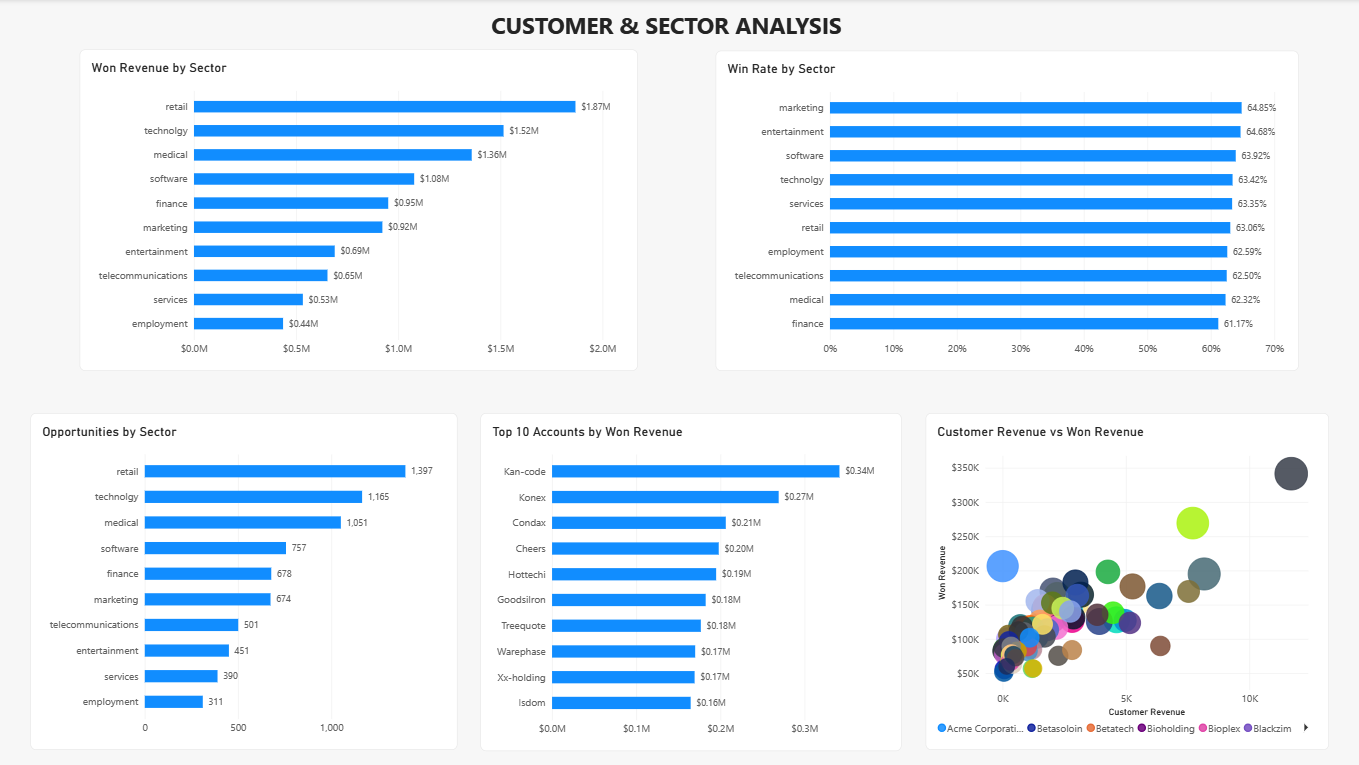

The dashboard page shown, as its layout file describes it:
{"tool":"powerbi","page":{"name":"Customer & Sector Analysis","canvas":[1920,1080],"ordinal":2},"visuals":[{"type":"clusteredBarChart","title":"Won Revenue by Sector","fields":{"Category":["DimAccount.sector"],"Y":["FactSalesPipeline.Won Revenue"]},"box":[114.6,70.8,783.8,451.8],"z":0},{"type":"clusteredBarChart","title":"Win Rate by Sector","fields":{"Category":["DimAccount.sector"],"Y":["FactSalesPipeline.Win Rate"]},"box":[1008,72.5,819.2,450.1],"z":1000},{"type":"clusteredBarChart","title":"Opportunities by Sector","fields":{"Category":["DimAccount.sector"],"Y":["FactSalesPipeline.Total Opportunities"]},"box":[45.5,581.6,600.1,473.7],"z":2000},{"type":"clusteredBarChart","title":"Top 10 Accounts by Won Revenue","fields":{"Category":["DimAccount.account"],"Y":["FactSalesPipeline.Won Revenue"]},"box":[677.6,581.6,591.7,475.4],"z":4000},{"type":"scatterChart","title":"Customer Revenue vs Won Revenue","fields":{"Series":["DimAccount.account"],"Size":["FactSalesPipeline.Won Deals"],"X":["DimAccount.revenue"],"Y":["FactSalesPipeline.Won Revenue"]},"box":[1303,581.6,566.4,473.7],"z":7000},{"type":"textbox","box":[692.8,15.2,519.2,64.1],"z":8001}]}

Visuals, with their boxes in screenshot pixels (x1, y1, x2, y2), scaled from the page's 1920x1080 canvas onto the 1359x765 screenshot:
"Won Revenue by Sector" clusteredBarChart: [x1=81, y1=50, x2=636, y2=370]
"Win Rate by Sector" clusteredBarChart: [x1=713, y1=51, x2=1293, y2=370]
"Opportunities by Sector" clusteredBarChart: [x1=32, y1=412, x2=457, y2=748]
"Top 10 Accounts by Won Revenue" clusteredBarChart: [x1=480, y1=412, x2=898, y2=749]
"Customer Revenue vs Won Revenue" scatterChart: [x1=922, y1=412, x2=1323, y2=748]
textbox: [x1=490, y1=11, x2=858, y2=56]
